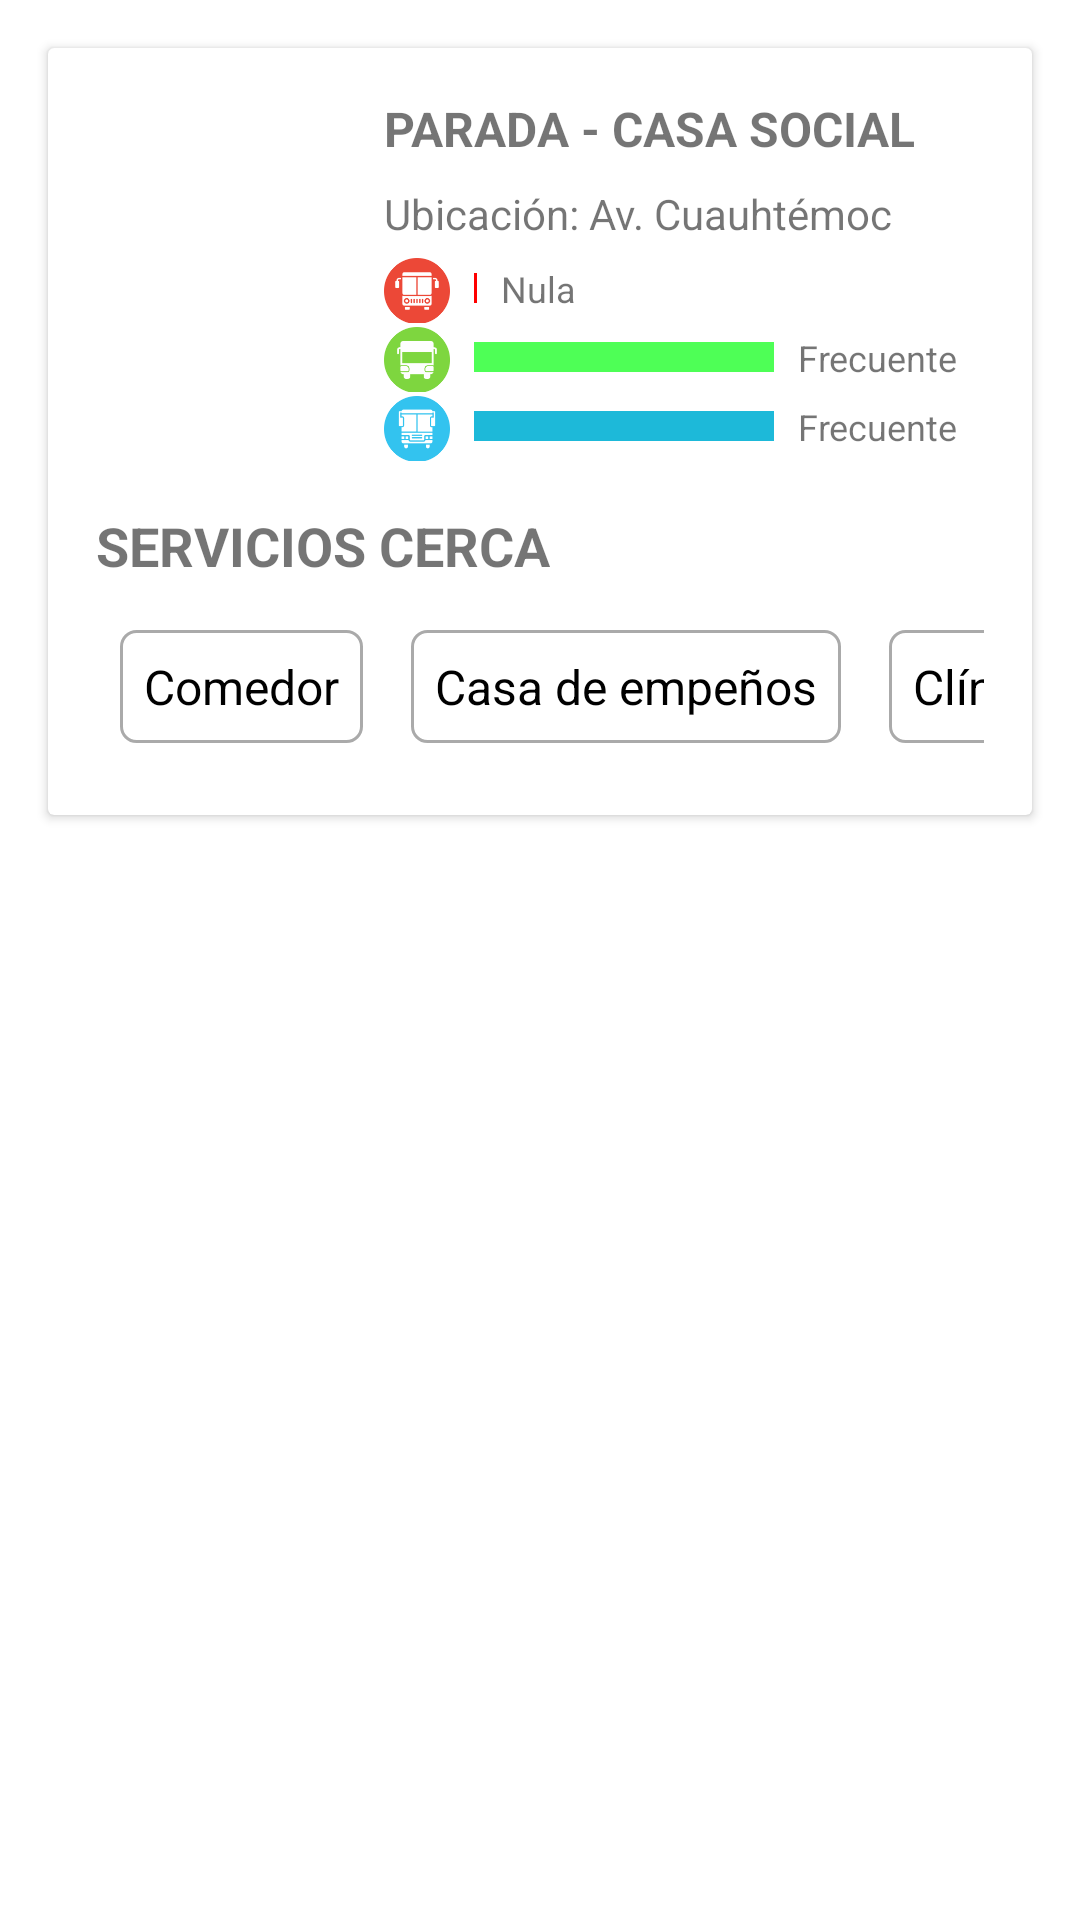

Icons on this 1080*1920 Android screen, each with its box as (x1, y1, x2, y2):
azules: (384, 396, 450, 461)
rojas: (384, 258, 450, 323)
verdes: (384, 327, 450, 392)
